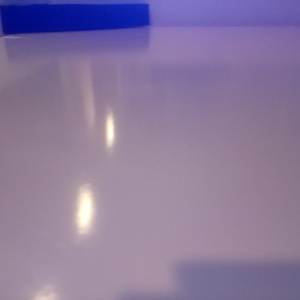zone: (1, 3, 150, 33)
